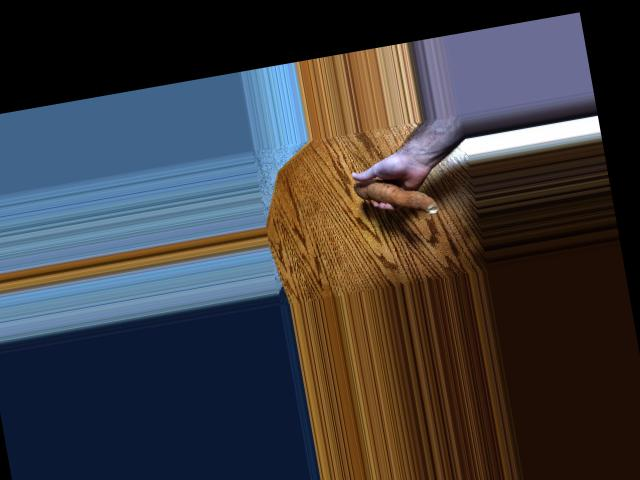sweet_potato: (349, 171, 440, 226)
